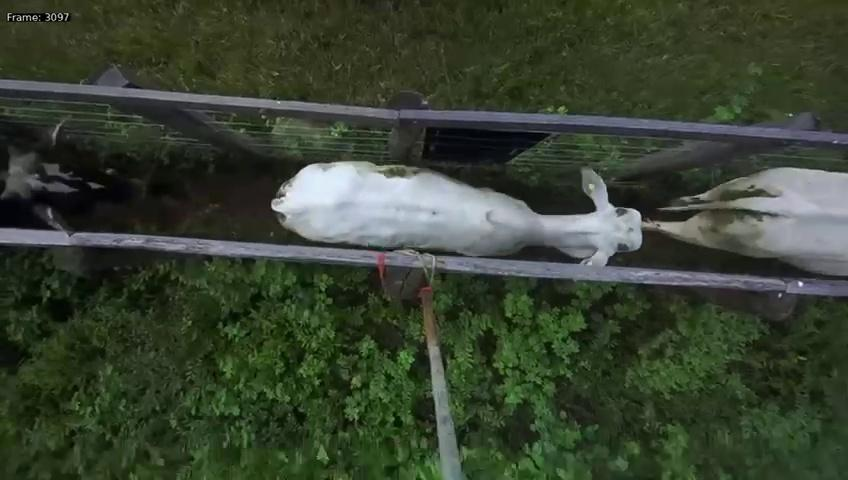cattle: (263, 154, 650, 288)
